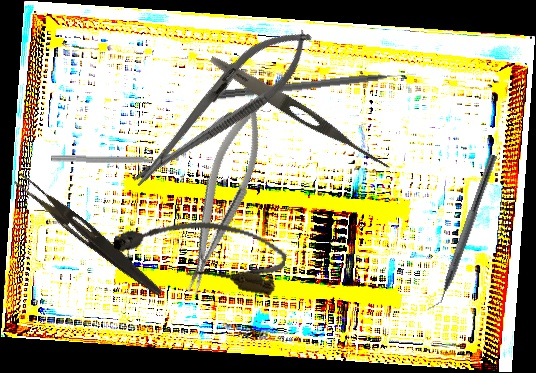Cannula: (109, 200, 291, 299)
Chopper: (424, 149, 498, 316)
Dressing Forceps: (206, 51, 396, 175), (9, 172, 169, 299)
Fixation Ring: (50, 151, 180, 175)
Needle Holder: (117, 11, 325, 203), (166, 94, 279, 299)
Pusher: (214, 69, 418, 102)
